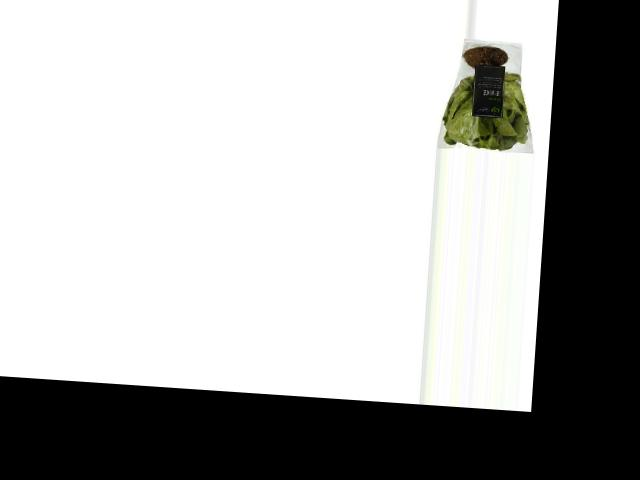lettuce: (437, 37, 538, 153)
